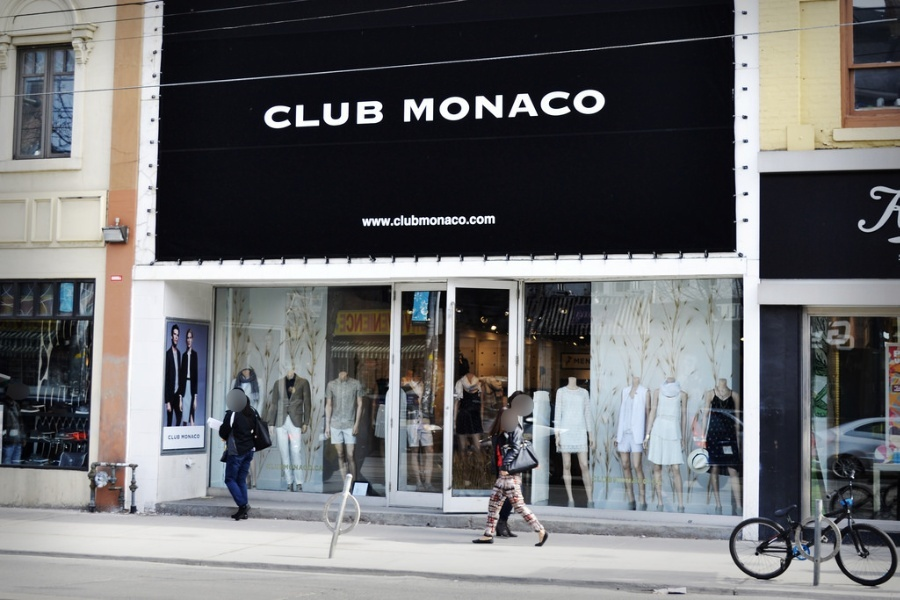text: (881, 184, 896, 249), (401, 88, 416, 123), (417, 88, 432, 123), (433, 88, 448, 123), (449, 88, 464, 123), (465, 88, 480, 123), (481, 88, 496, 123), (497, 88, 512, 123), (513, 88, 528, 123), (529, 88, 544, 123), (545, 88, 560, 123), (561, 88, 576, 123), (577, 88, 592, 123), (593, 88, 608, 123), (369, 99, 385, 130), (273, 99, 288, 130), (289, 99, 304, 130), (305, 99, 320, 130), (321, 99, 336, 130), (337, 99, 352, 130), (353, 99, 368, 130), (873, 184, 880, 249), (833, 319, 848, 348), (353, 311, 368, 333), (369, 311, 384, 333), (339, 311, 352, 333), (265, 99, 272, 130), (406, 313, 416, 333), (369, 214, 384, 227), (385, 214, 400, 227), (401, 214, 416, 227), (417, 214, 432, 227), (433, 214, 448, 227), (449, 214, 464, 227), (465, 214, 480, 227), (481, 214, 496, 227), (897, 184, 900, 249), (849, 319, 855, 348), (593, 475, 608, 486), (609, 475, 624, 486), (625, 475, 640, 486), (641, 475, 656, 486), (273, 463, 288, 472), (289, 463, 304, 472), (305, 463, 320, 472), (577, 357, 592, 366), (385, 311, 391, 333), (828, 319, 832, 348), (361, 214, 368, 227), (180, 433, 192, 440), (890, 348, 896, 361), (265, 463, 272, 472), (193, 433, 201, 440), (168, 434, 176, 441), (657, 475, 662, 486), (897, 348, 900, 361), (177, 434, 182, 441), (573, 357, 576, 366), (321, 463, 323, 472)
